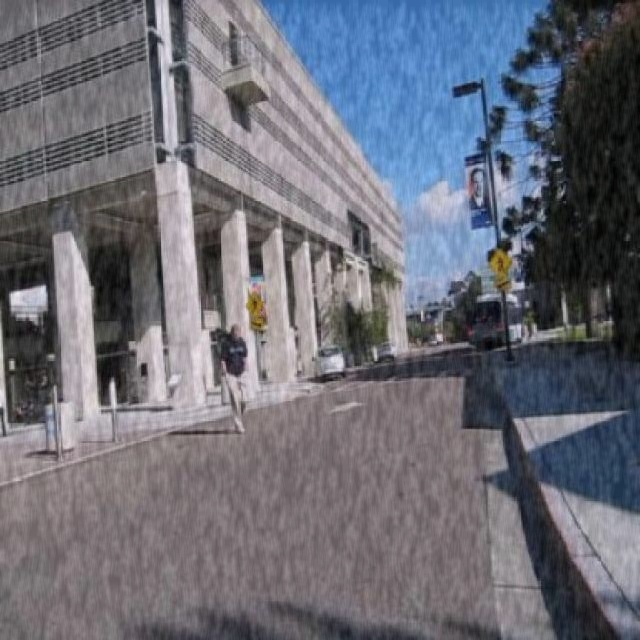pedestrianCrossing: (488, 244, 512, 280), (243, 289, 264, 320)
